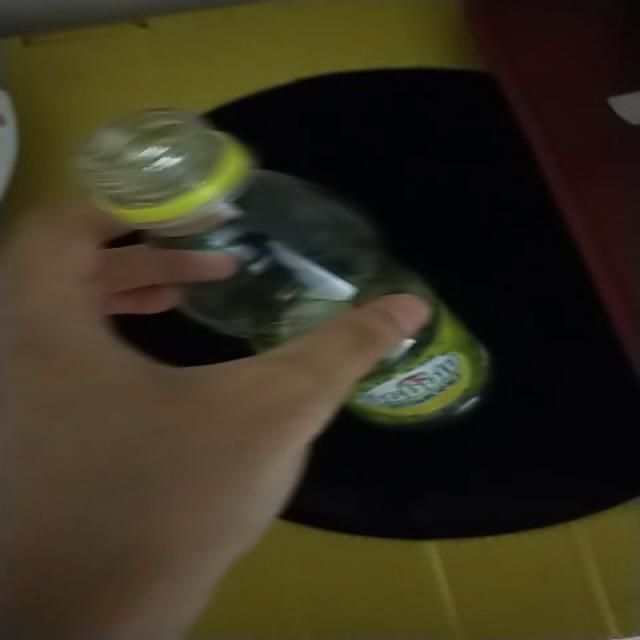Plastic: (75, 108, 489, 425)
